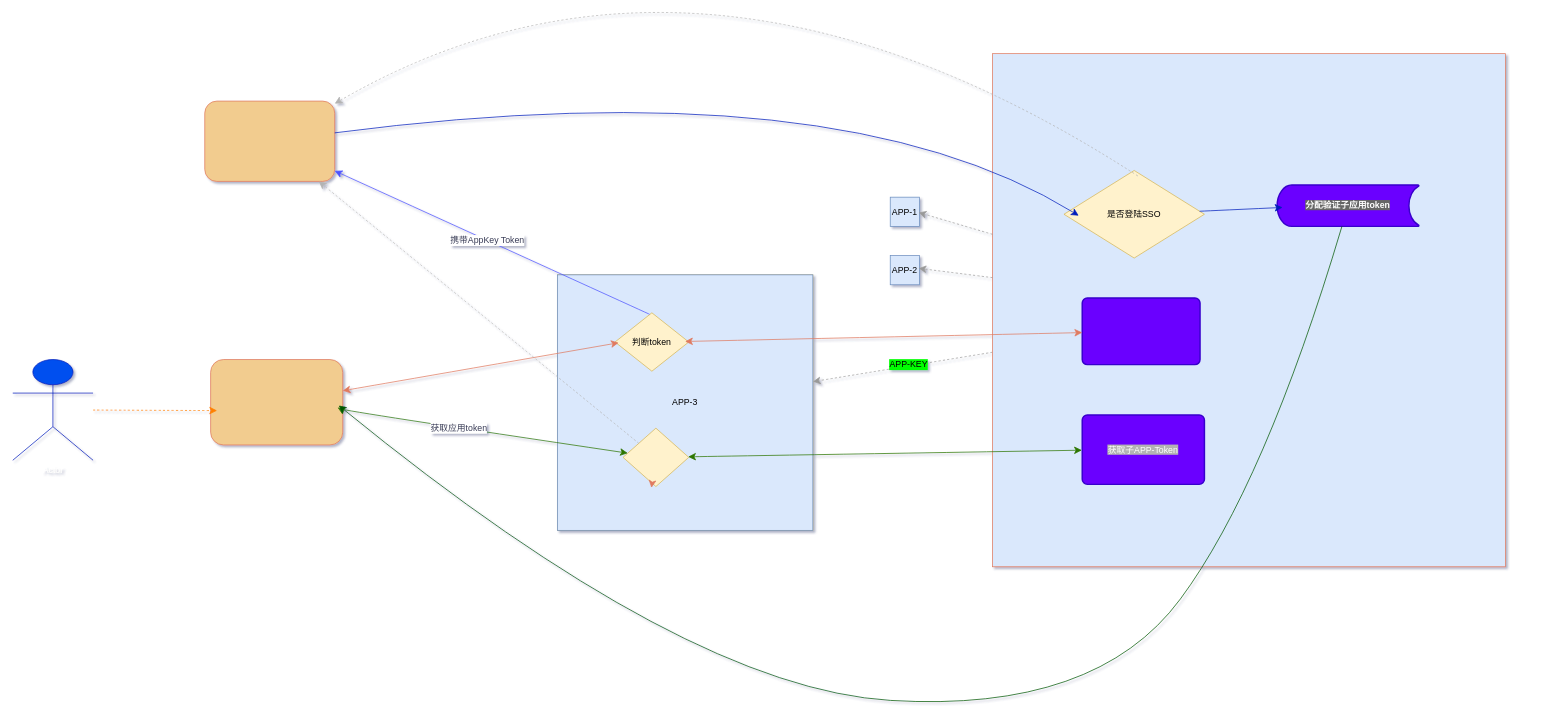
Image size: 1557x720. Some labels were removed from this diagram. The shapes that lost their labels are listed below. From the top down, each one's centre as x and y in pixels, then its label:
At pixel 269 140: "SSO-前端".
At pixel 1140 331: "验证token".
At pixel 276 402: "APP-3 前端".
At pixel 655 457: "分发token".
